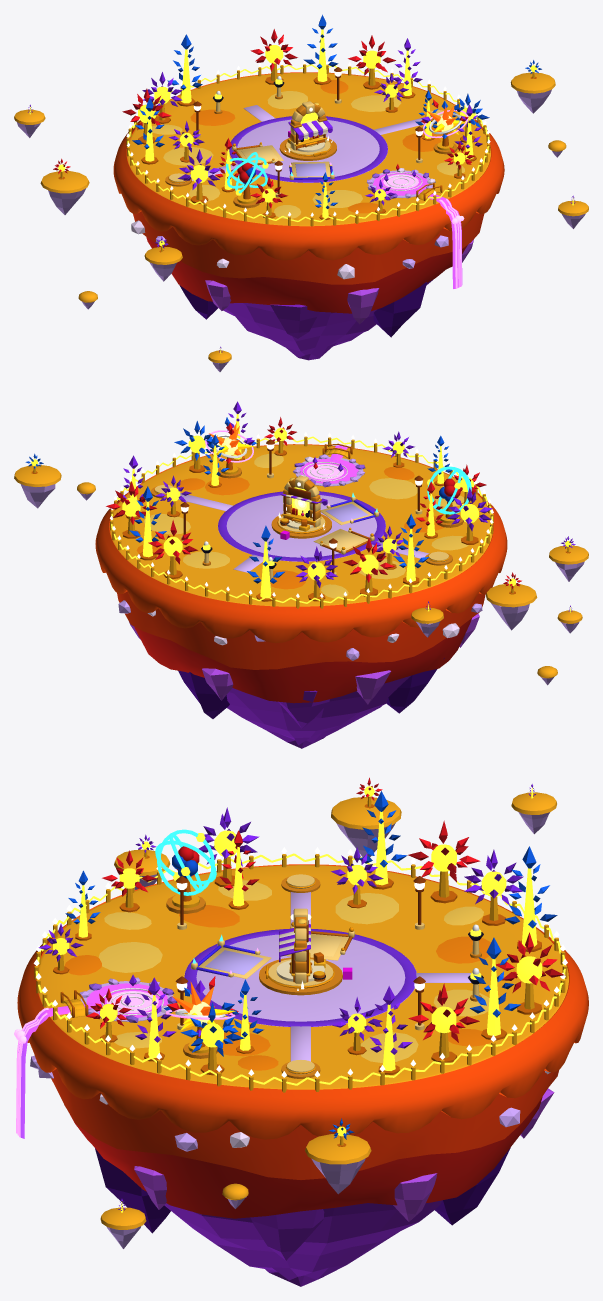
Rendered from the_big_bang_island.fbx.
The picture shows the model from 3 angles, top to bottom: view 1: azimuth 30°, elevation 25°; view 2: azimuth 150°, elevation 25°; view 3: azimuth 270°, elevation 25°; orthographic projection. The views are drawn at different scales.
Parts seen in each view (by area): view 1: TheBigBang_Island, TheBigBang_Glow, TheBigBang_Trees, TheBigBang_Paths, TheBigBang_FloatingRocks, TheBigBang_Dressing, TheBigBang_BossPlinth, TheBigBang_Stall, TheBigBang_Portal; view 2: TheBigBang_Island, TheBigBang_Glow, TheBigBang_Trees, TheBigBang_Paths, TheBigBang_FloatingRocks, TheBigBang_Dressing, TheBigBang_Portal, TheBigBang_Stall, TheBigBang_BossPlinth; view 3: TheBigBang_Island, TheBigBang_Glow, TheBigBang_Trees, TheBigBang_Paths, TheBigBang_FloatingRocks, TheBigBang_Dressing, TheBigBang_BossPlinth, TheBigBang_Stall, TheBigBang_Portal.
Boxes of the visible parts, x1,y1,x2,y2 form: TheBigBang_Island: (113, 72, 504, 360); TheBigBang_Glow: (29, 29, 573, 353); TheBigBang_Trees: (122, 14, 489, 219); TheBigBang_Paths: (165, 105, 448, 186); TheBigBang_FloatingRocks: (14, 60, 588, 371); TheBigBang_Dressing: (126, 64, 490, 226); TheBigBang_BossPlinth: (279, 138, 336, 160); TheBigBang_Stall: (287, 120, 332, 150); TheBigBang_Portal: (284, 101, 332, 152); TheBigBang_Island: (95, 444, 507, 748); TheBigBang_Glow: (31, 414, 570, 612); TheBigBang_Trees: (106, 401, 492, 601); TheBigBang_Paths: (151, 485, 452, 572); TheBigBang_FloatingRocks: (14, 453, 588, 685); TheBigBang_Dressing: (110, 417, 493, 608); TheBigBang_Portal: (278, 475, 325, 530); TheBigBang_Stall: (280, 487, 327, 531); TheBigBang_BossPlinth: (271, 513, 331, 538); TheBigBang_Island: (17, 864, 588, 1286); TheBigBang_Glow: (14, 786, 567, 1212); TheBigBang_Trees: (38, 791, 564, 1075); TheBigBang_Paths: (184, 874, 471, 1078); TheBigBang_FloatingRocks: (100, 777, 556, 1248); TheBigBang_Dressing: (34, 846, 567, 1092); TheBigBang_BossPlinth: (259, 957, 342, 995); TheBigBang_Stall: (279, 920, 325, 982); TheBigBang_Portal: (290, 908, 311, 990).
Bounding box in the file's own units: 181 × 96.83 × 123.
